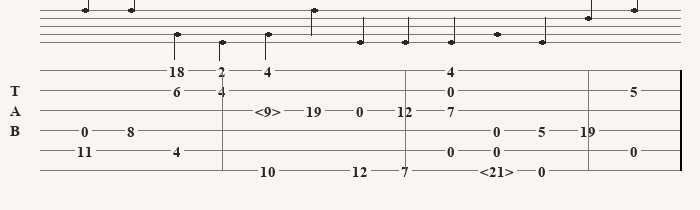0: (81, 123, 93, 137), (356, 103, 368, 117), (447, 143, 459, 157), (447, 83, 459, 97), (493, 143, 505, 157), (493, 123, 505, 137), (538, 163, 550, 177), (630, 143, 642, 157)
10: (260, 163, 280, 177)
11: (77, 143, 97, 157)
12: (352, 163, 372, 177), (397, 103, 417, 117)
18: (169, 63, 189, 77)
19: (306, 103, 326, 117), (580, 123, 600, 137)
2: (218, 63, 230, 77)
4: (173, 143, 185, 157), (218, 83, 230, 97), (264, 63, 276, 77), (447, 63, 459, 77)
5: (538, 123, 550, 137), (630, 83, 642, 97)
6: (173, 83, 185, 97)
7: (401, 163, 413, 177), (447, 103, 459, 117)
8: (127, 123, 139, 137)
harmonic: (480, 163, 518, 177), (255, 103, 285, 117)
